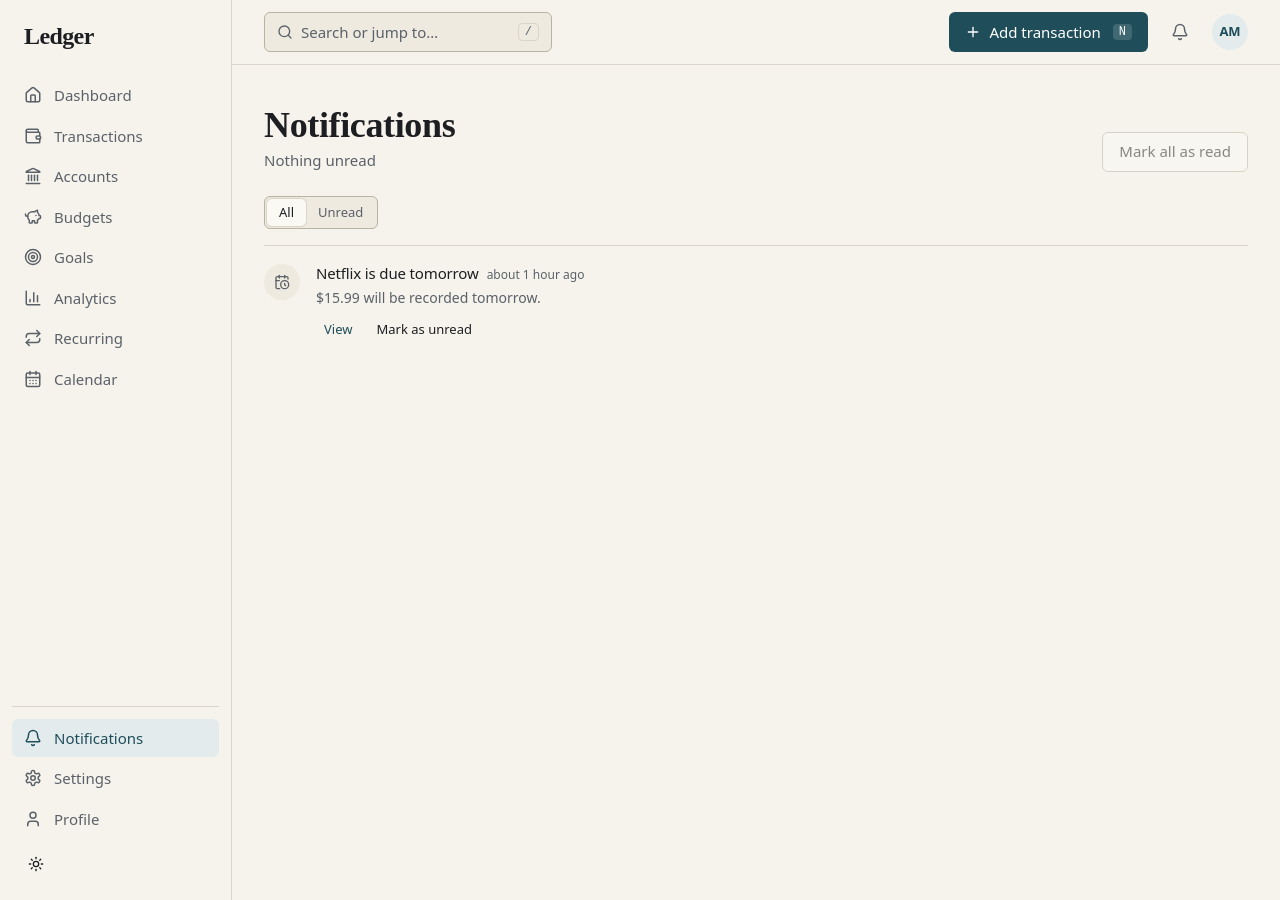
it: notifications page › filters to unread and says so when there are none
The image size is (1280, 900).
Check: the heading "Netflix is due tomorrow" is shown, box [316,262,479,284]
Check: the button "Mark all as read" is disabled, box [1102,132,1248,172]
Step 1. Click the radio button labelled "Unread" → (341,212), box [318,202,363,220]
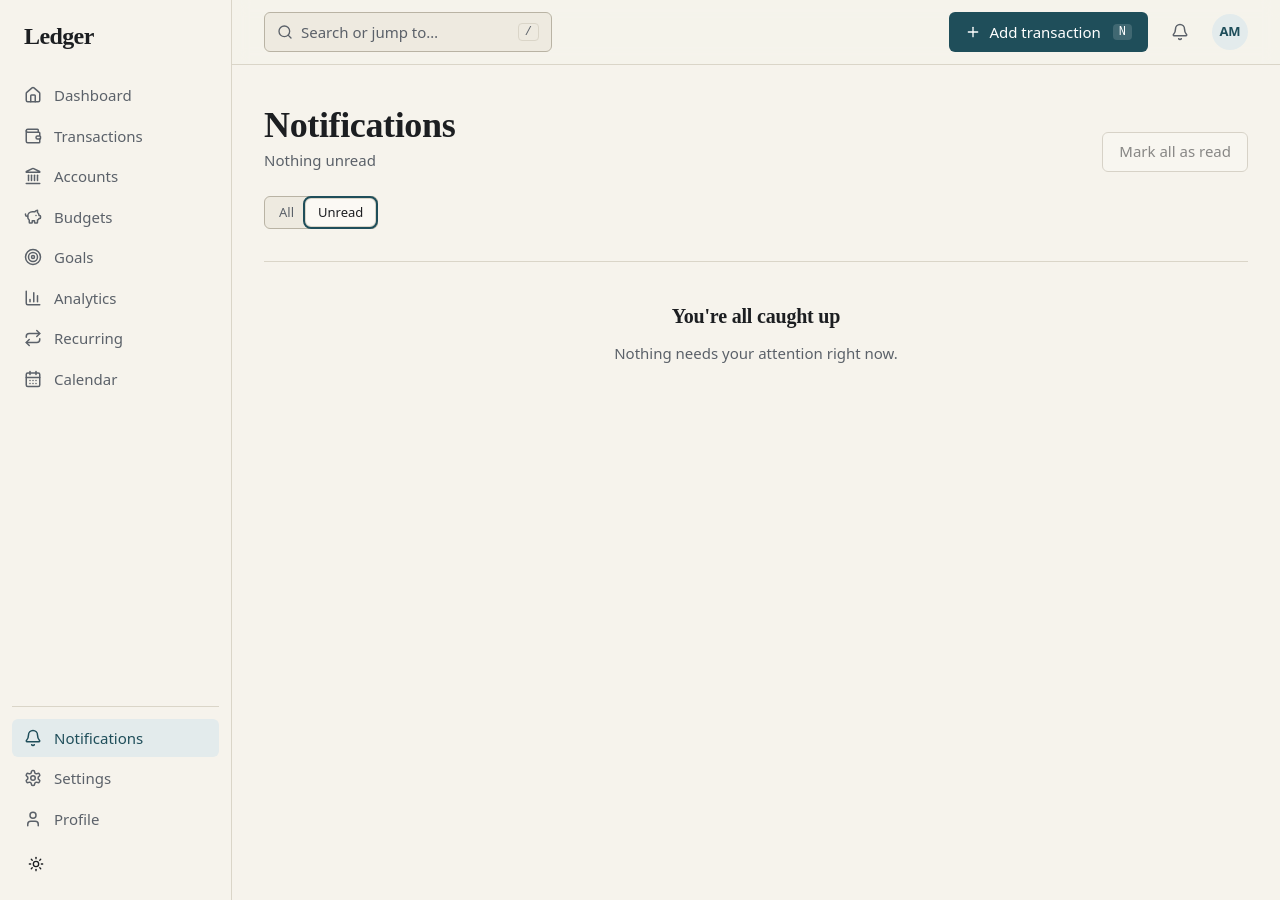
Check: the heading "You're all caught up" is shown, box [672,302,840,330]
